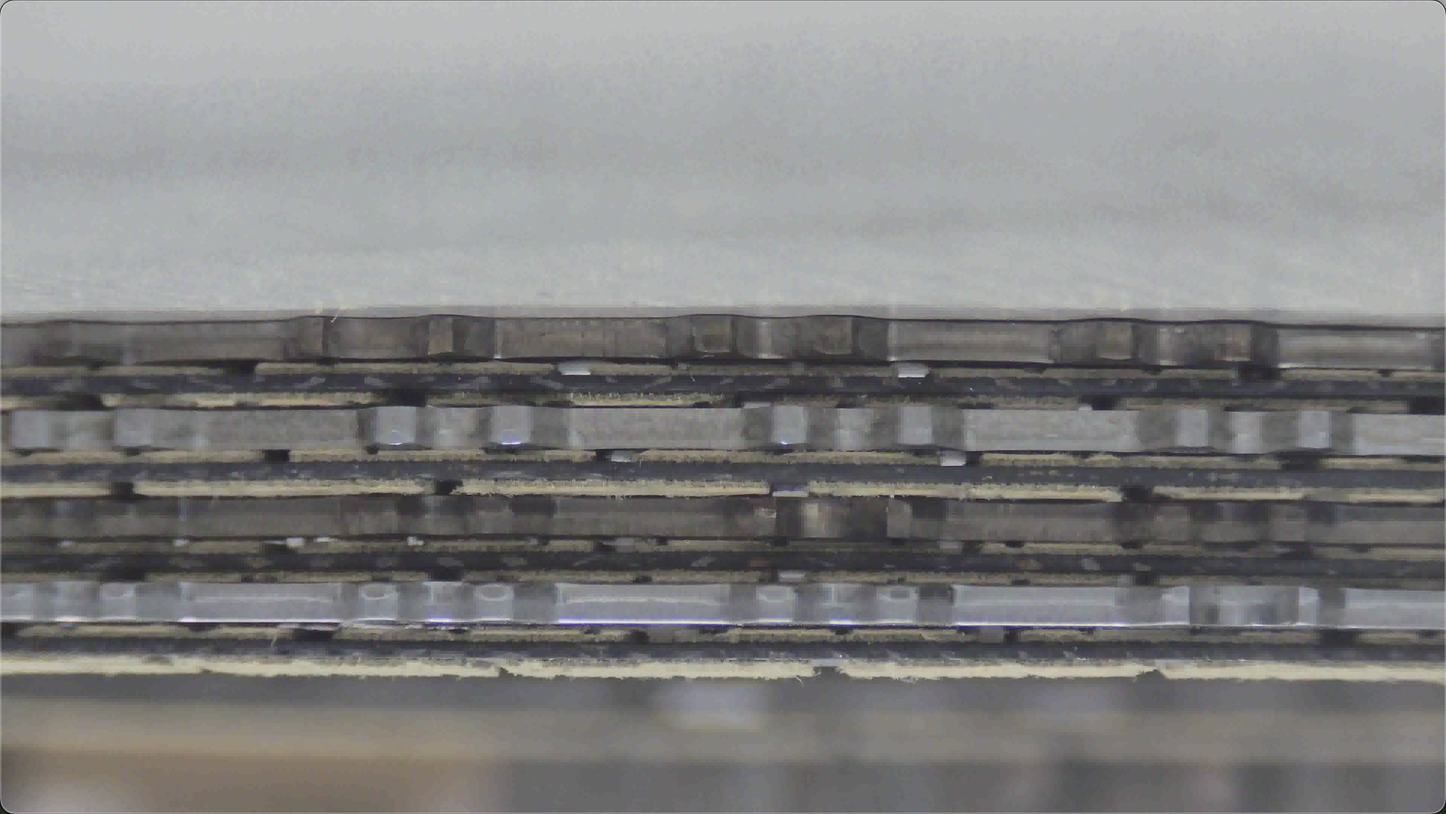Black metal plate: (0, 260, 1445, 319), (0, 442, 1445, 498)
shiney metal plate: (0, 403, 1445, 455), (0, 185, 1445, 236)
spacer: (0, 0, 1365, 363), (0, 541, 1442, 587), (0, 319, 1445, 357), (0, 364, 1445, 401)
